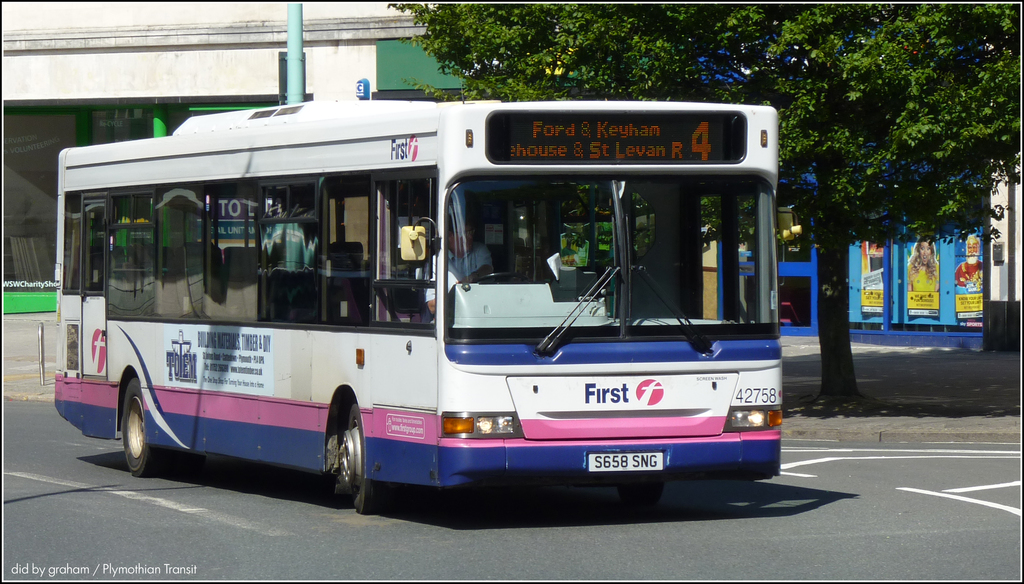Bus: (53, 100, 779, 512)
